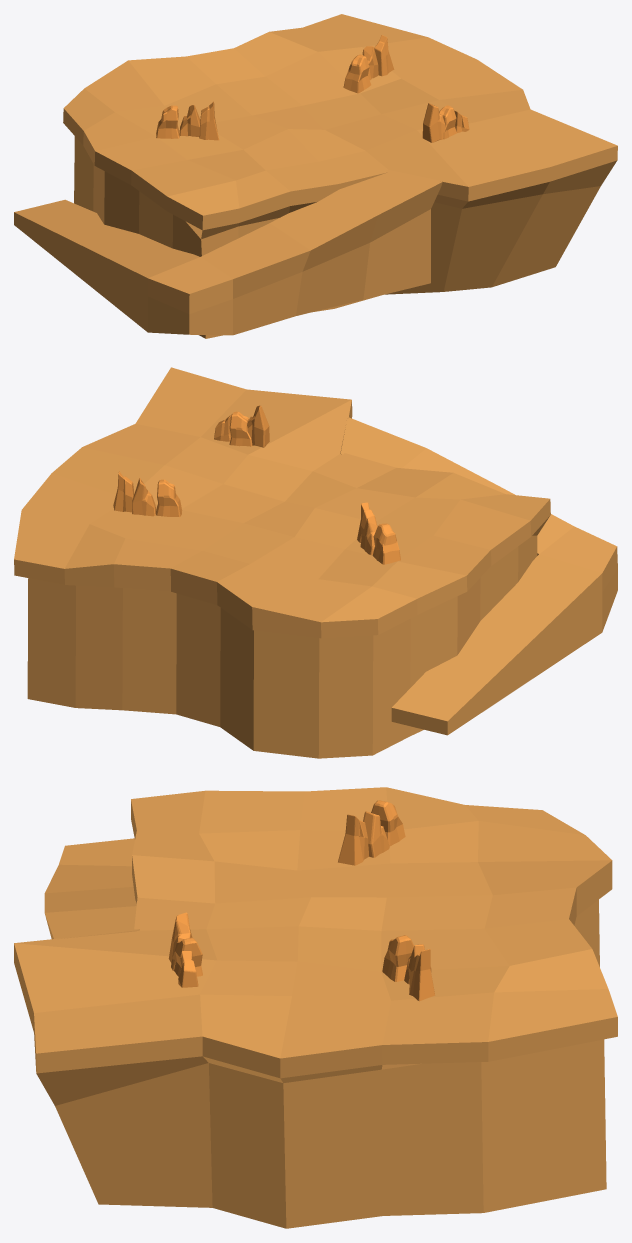
File: EscenarioFinalTest.fbx
The picture shows the model from 3 angles, top to bottom: view 1: azimuth 30°, elevation 25°; view 2: azimuth 150°, elevation 25°; view 3: azimuth 270°, elevation 25°; orthographic projection. The views are drawn at different scales.
Visible parts, largest first — view 1: Plane, Rampa, Cube.001, Rock01.005, Cube, Rock01, Rock01.003, Rock01.001; view 2: Plane, Rampa, Cube, Cube.001, Rock01.005, Cube.002, Rock01.002, Rock01.003; view 3: Plane, Rampa, Rock01, Cube.001, Rock01.003, Cube, Rock01.001, Cube.002.
Boxes of the visible parts, x1=… form: Plane: x1=63, y1=14, x2=617, y2=338; Rampa: x1=14, y1=170, x2=442, y2=335; Cube.001: x1=343, y1=54, x2=371, y2=93; Rock01.005: x1=422, y1=103, x2=448, y2=142; Cube: x1=156, y1=105, x2=179, y2=138; Rock01: x1=199, y1=101, x2=219, y2=140; Rock01.003: x1=374, y1=35, x2=394, y2=76; Rock01.001: x1=179, y1=105, x2=200, y2=136; Plane: x1=14, y1=367, x2=550, y2=758; Rampa: x1=340, y1=417, x2=617, y2=735; Cube: x1=372, y1=523, x2=400, y2=564; Cube.001: x1=156, y1=479, x2=182, y2=516; Rock01.005: x1=247, y1=405, x2=269, y2=447; Cube.002: x1=229, y1=411, x2=252, y2=446; Rock01.002: x1=132, y1=478, x2=155, y2=516; Rock01.003: x1=113, y1=471, x2=134, y2=512; Plane: x1=14, y1=787, x2=617, y2=1228; Rampa: x1=44, y1=838, x2=139, y2=939; Rock01: x1=338, y1=814, x2=368, y2=865; Cube.001: x1=382, y1=935, x2=413, y2=981; Rock01.003: x1=409, y1=949, x2=434, y2=1001; Cube: x1=371, y1=800, x2=405, y2=846; Rock01.001: x1=363, y1=811, x2=389, y2=857; Cube.002: x1=171, y1=937, x2=202, y2=976.
Size of the model in its own units: 3212 by 1217 by 2806.
